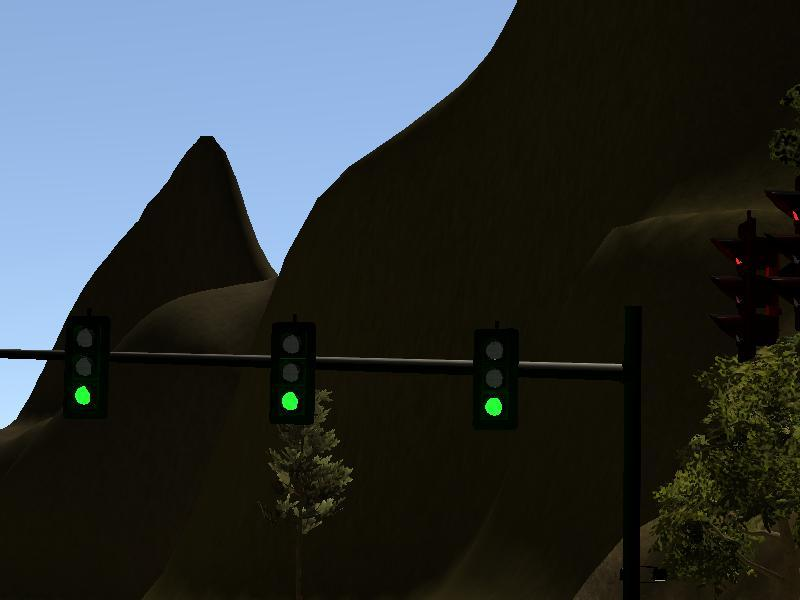Green: (475, 325, 517, 433), (272, 323, 314, 419), (65, 324, 103, 414)
